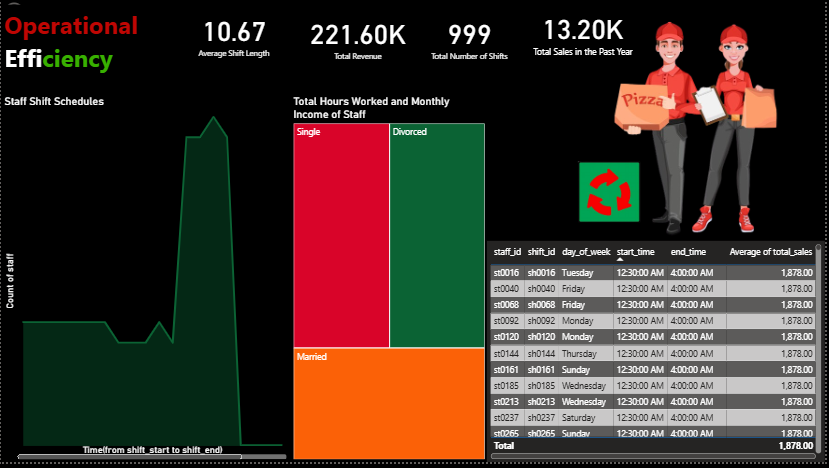

The page's visual inventory and layout, read from the dashboard file:
{"tool":"powerbi","page":{"name":"Operational Efficiency","canvas":[1280,720],"ordinal":3},"visuals":[{"type":"stackedAreaChart","title":"Staff Shift Schedules","fields":{"Category":["shift.start_time","shift.end_time"],"Y":["CountNonNull(rota.staff_id)"]},"box":[0,149.6,448.8,570.6],"z":0},{"type":"card","fields":{"Values":["Avg(staff.hourly_hours)"]},"box":[264.2,8.4,193,89.3],"z":1000},{"type":"card","fields":{"Values":["Count(shift.shift_id)"]},"box":[649.1,16.9,155.6,80.8],"z":2000},{"type":"treemap","title":"Total Hours Worked and Monthly Income of Staff","fields":{"Values":["Avg(staff.hourly_hours)"],"Group":["staff.MartialStatus"]},"box":[448.8,149.6,306.4,570.6],"z":3000},{"type":"tableEx","fields":{"Values":["staff.staff_id","shift.shift_id","shift.day_of_week","shift.start_time","shift.end_time","Avg(Query4.total_sales)"]},"box":[755.2,376.4,524.8,343.8],"z":4000},{"type":"actionButton","box":[0,0,100,40],"z":5000},{"type":"card","fields":{"Values":["Sum(Query4.total_sales)"]},"box":[457.2,18.1,191.8,80.8],"z":6000},{"type":"image","box":[874.7,0,405.4,393.3],"z":7000},{"type":"textbox","box":[0,8.4,241.3,121.9],"z":8000},{"type":"card","fields":{"Values":["CountNonNull(orders.order_id)"]},"box":[804.7,0,199.1,101.3],"z":8001},{"type":"image","box":[885.5,241.3,118.2,118.2],"z":8002}]}

Visuals, with their boxes in screenshot pixels (x1, y1, x2, y2), scaled from the page's 1280x720 canvas onto the 829x468 screenshot:
"Staff Shift Schedules" stackedAreaChart: locate(0, 97, 291, 467)
card - Avg(staff.hourly_hours): locate(171, 5, 296, 64)
card - Count(shift.shift_id): locate(420, 11, 521, 64)
"Total Hours Worked and Monthly Income of Staff" treemap: locate(291, 97, 489, 467)
tableEx - staff.staff_id x shift.shift_id: locate(489, 245, 828, 467)
actionButton: locate(0, 0, 65, 26)
card - Sum(Query4.total_sales): locate(296, 12, 420, 64)
image: locate(567, 0, 828, 256)
textbox: locate(0, 5, 156, 85)
card - CountNonNull(orders.order_id): locate(521, 0, 650, 66)
image: locate(573, 157, 650, 234)
